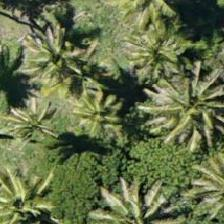coconut_tree: (151, 58, 223, 148), (90, 172, 180, 223), (0, 161, 61, 223)
